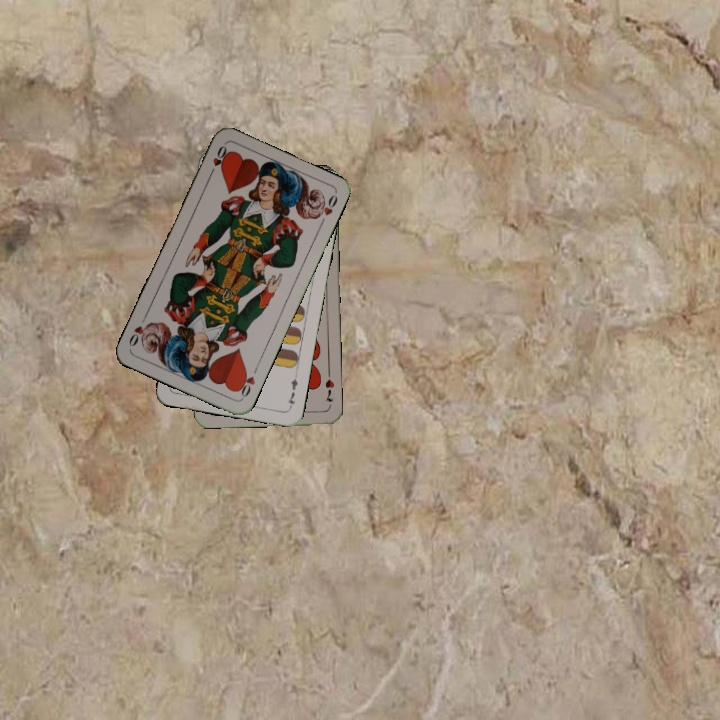E7: (283, 370, 300, 411)
H7: (321, 375, 337, 404)
HO: (233, 362, 260, 401), (205, 141, 231, 179)
